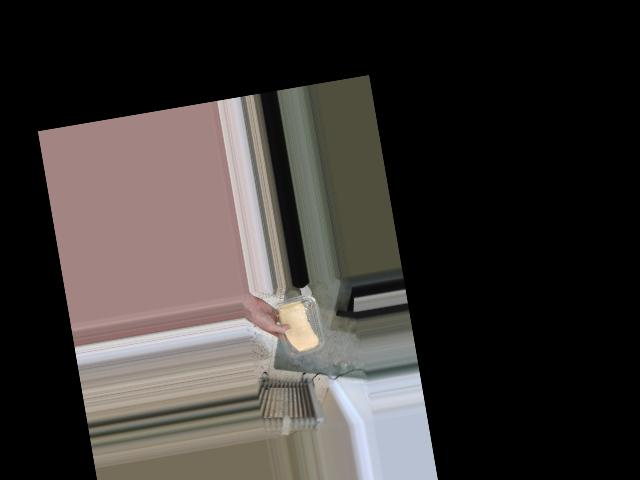cheese: (271, 294, 325, 361)
